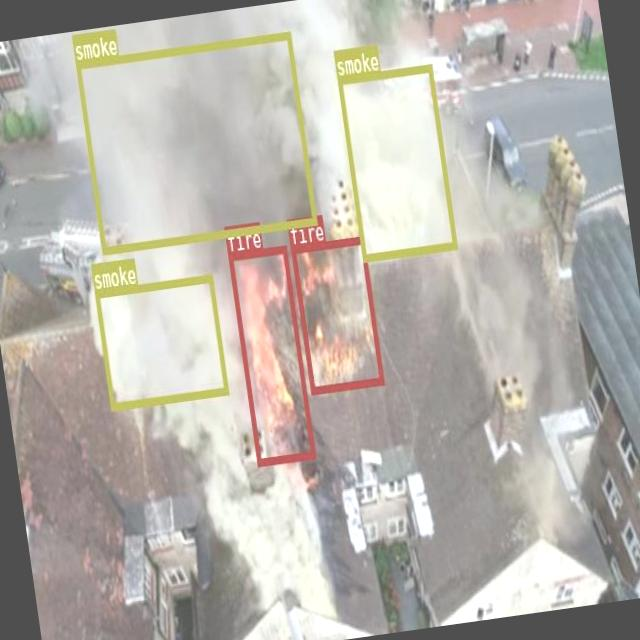fire: (227, 243, 315, 464), (291, 235, 384, 393)
smoke: (75, 30, 316, 253), (337, 64, 458, 262), (94, 274, 228, 411)
